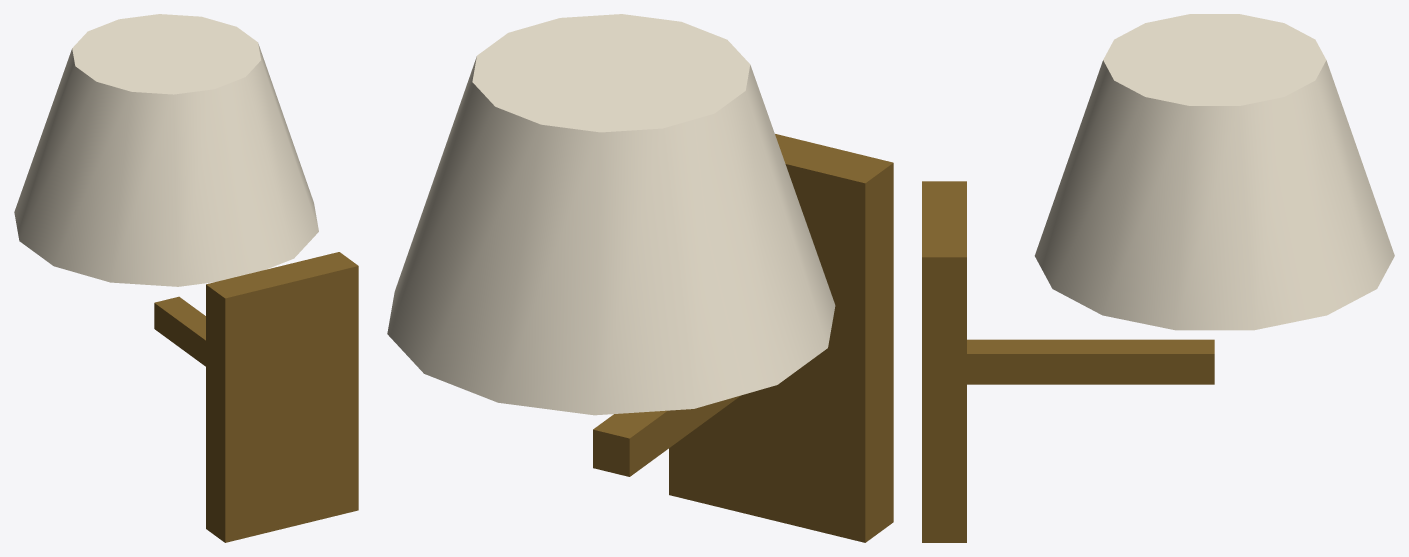
File: sconce.obj
3 views of the same model, side by side, from view 1: azimuth 30°, elevation 25°; view 2: azimuth 150°, elevation 25°; view 3: azimuth 270°, elevation 25° (orthographic). The views are drawn at different scales.
Parts seen in each view (by area): view 1: sconce_2, sconce_0, sconce_1; view 2: sconce_2, sconce_0, sconce_1; view 3: sconce_2, sconce_0, sconce_1.
Boxes of the visible parts, x1,y1,x2,y2 form: sconce_2: (14, 14, 318, 286); sconce_0: (206, 252, 358, 542); sconce_1: (154, 296, 205, 366); sconce_2: (387, 14, 835, 415); sconce_0: (669, 134, 893, 542); sconce_1: (593, 395, 740, 476); sconce_2: (1034, 14, 1394, 330); sconce_0: (922, 181, 966, 542); sconce_1: (967, 339, 1214, 384).
Bounding box in the file's own units: 0.156 × 0.218 × 0.21.
